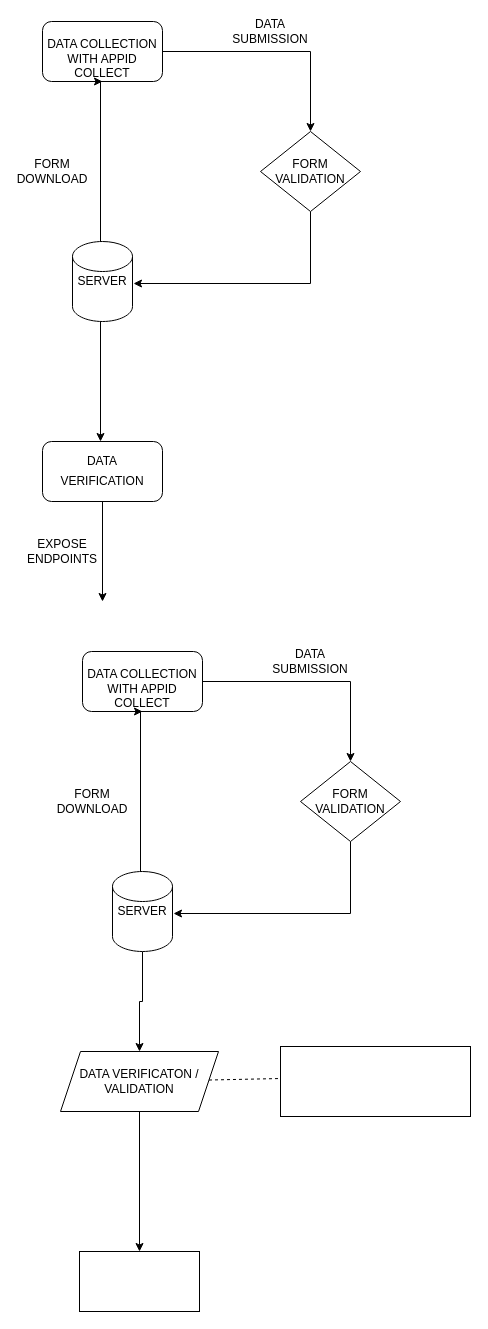
Image size: 488x1329. Some labels were removed from this diagram. Each missing label, with the centre of its shape:
Technology used Django, PostgreSQL database: the point at 375,1081
WEB PORTAL: the point at 139,1281
